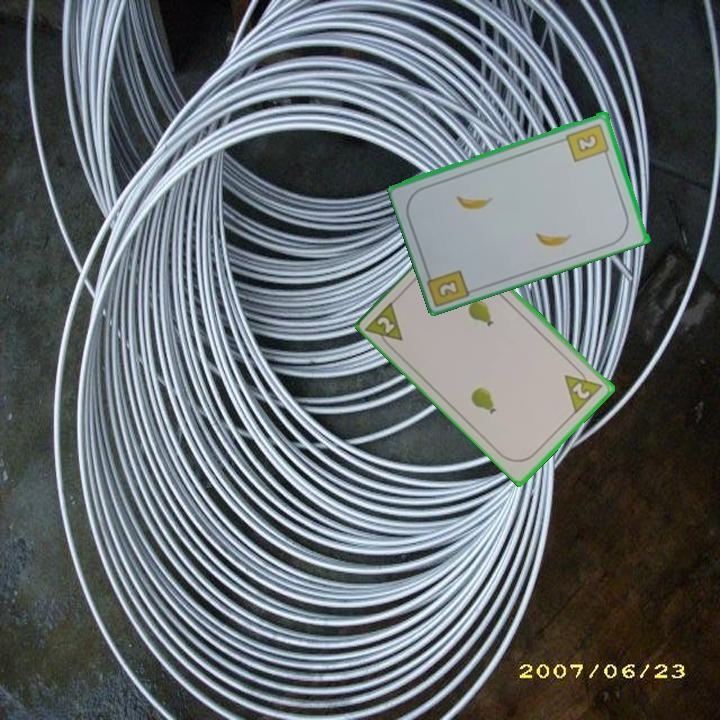2b: (563, 120, 612, 164), (434, 275, 462, 300)
2p: (561, 362, 606, 416), (363, 297, 406, 352)
